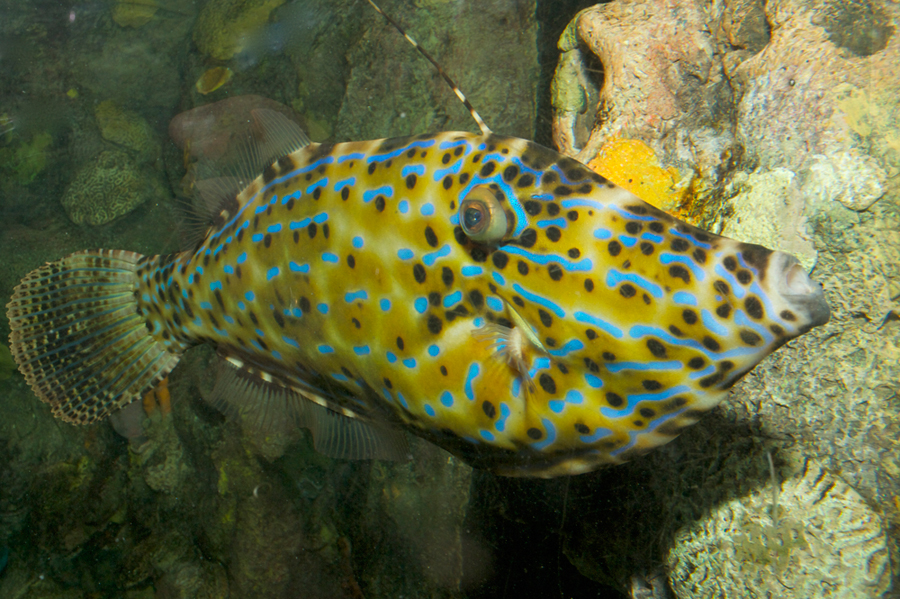Aluterus_scriptus: (3, 1, 828, 491)
